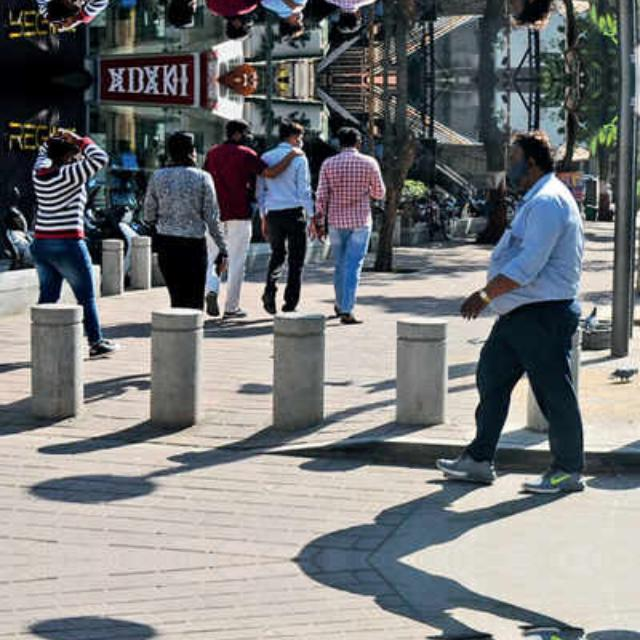person: (444, 122, 598, 500), (34, 120, 120, 350), (151, 132, 227, 330), (315, 122, 385, 312), (208, 115, 264, 318), (262, 120, 314, 320), (444, 0, 598, 37), (34, 0, 120, 40), (444, 620, 598, 640), (315, 0, 385, 38), (207, 0, 264, 45), (151, 0, 227, 28), (261, 0, 314, 40)
